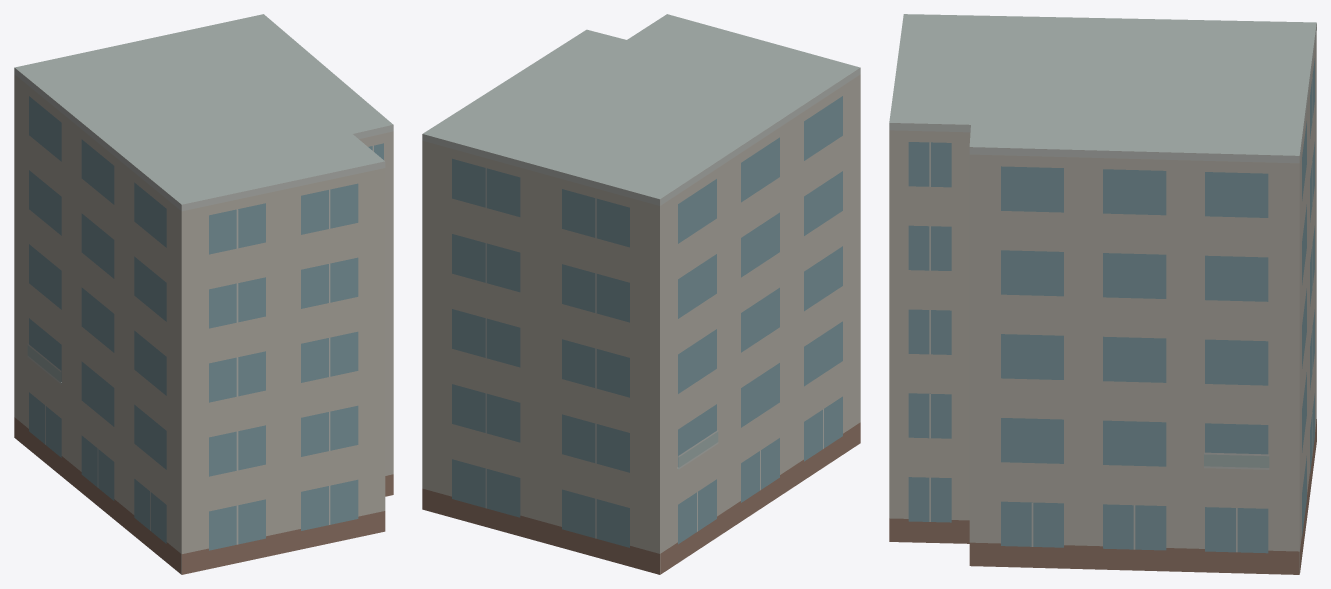
The model's file is survey-upis-32657836.glb.
3 renders of one model, left to right at view 1: azimuth 30°, elevation 25°; view 2: azimuth 150°, elevation 25°; view 3: azimuth 270°, elevation 25°, orthographic. The views are drawn at different scales.
Visible parts, largest first — view 1: survey-upis-32657836.tmp; view 2: survey-upis-32657836.tmp; view 3: survey-upis-32657836.tmp.
Part boxes in pixels (<box>): survey-upis-32657836.tmp: <box>14,14,393,574</box>; survey-upis-32657836.tmp: <box>422,14,860,574</box>; survey-upis-32657836.tmp: <box>889,14,1316,574</box>.
Bounding box in the file's own units: 9.89 × 13.6 × 12.59.
